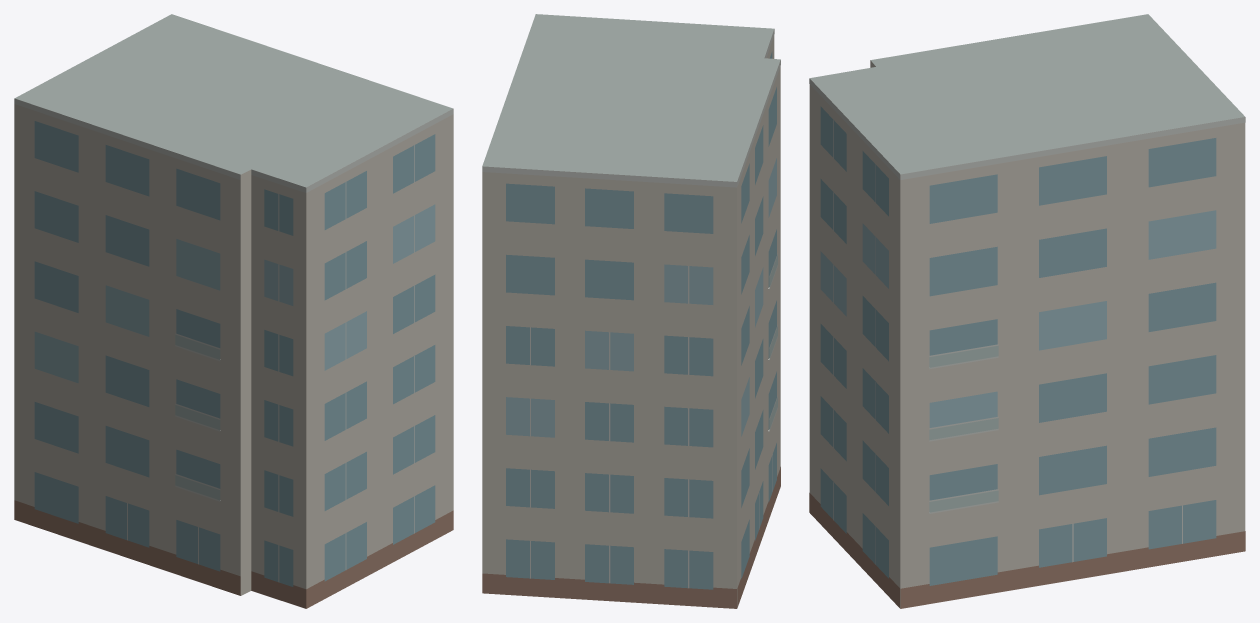
Rendered from survey-upis-32842433.glb.
3 views of the same model, side by side, from view 1: azimuth 30°, elevation 25°; view 2: azimuth 150°, elevation 25°; view 3: azimuth 270°, elevation 25° (orthographic). The views are drawn at different scales.
Visible parts, largest first — view 1: survey-upis-32842433.tmp; view 2: survey-upis-32842433.tmp; view 3: survey-upis-32842433.tmp.
Part boxes in pixels (box(x1,y1,x2,y2)): survey-upis-32842433.tmp: box(14, 14, 453, 608); survey-upis-32842433.tmp: box(482, 14, 780, 608); survey-upis-32842433.tmp: box(809, 14, 1245, 608).
Bounding box in the file's own units: 14.78 × 18.65 × 16.97.
